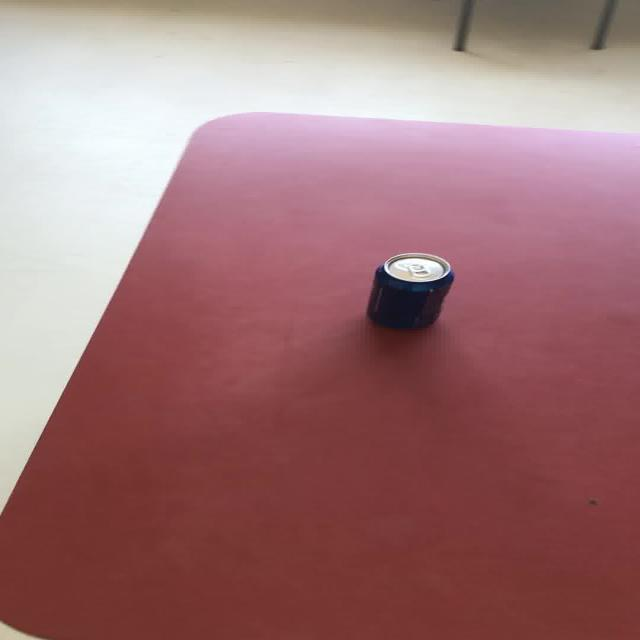tonic: (364, 251, 454, 329)
